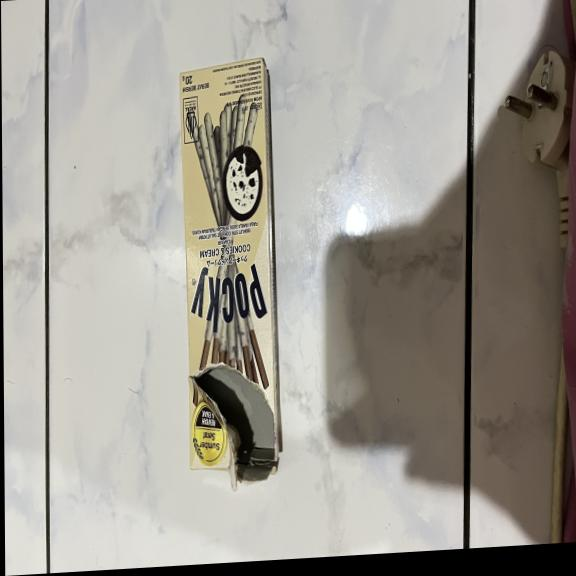Kertas: (175, 54, 281, 486)
